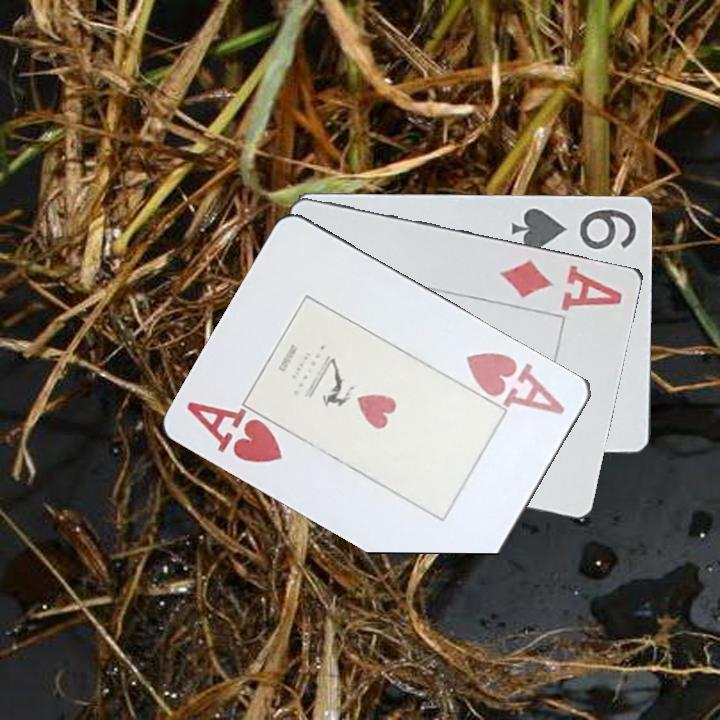6s: (508, 204, 640, 252)
Ad: (496, 255, 626, 314)
Ah: (462, 347, 568, 417), (183, 397, 286, 466)
